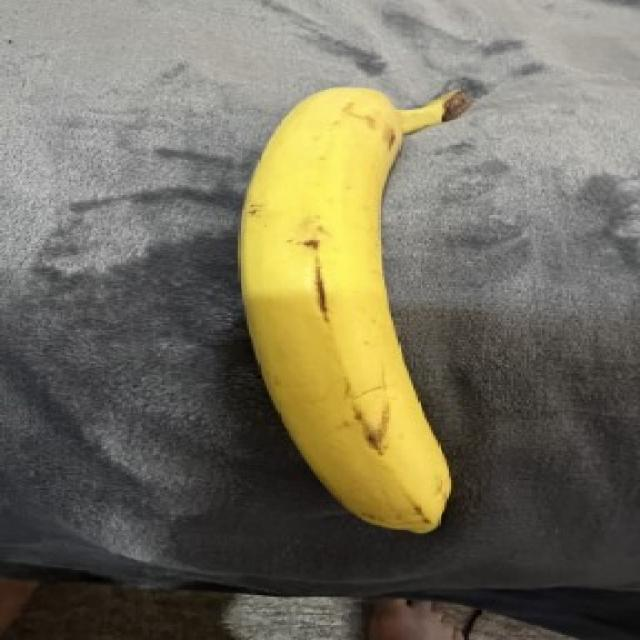Ripe: (210, 61, 544, 552)
